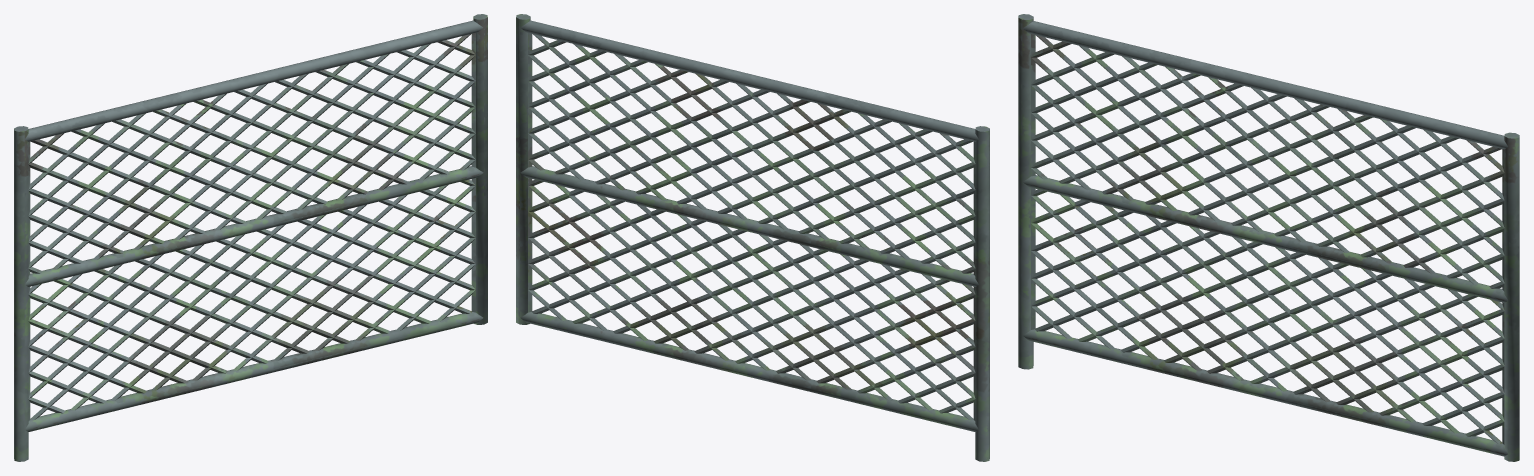
Rendered from Barrière ouvrante.fbx.
The picture shows the model from 3 angles, left to right: view 1: azimuth 30°, elevation 25°; view 2: azimuth 150°, elevation 25°; view 3: azimuth 330°, elevation 25°; orthographic projection. The views are drawn at different scales.
Parts seen in each view (by area): view 1: Grillage.006; view 2: Grillage.006; view 3: Grillage.006.
Part boxes in pixels (bbox=[...]): Grillage.006: bbox=[14, 14, 487, 461]; Grillage.006: bbox=[516, 14, 989, 461]; Grillage.006: bbox=[1018, 14, 1519, 461].
Bounding box in the file's own units: 1429 × 952 × 34.83.
